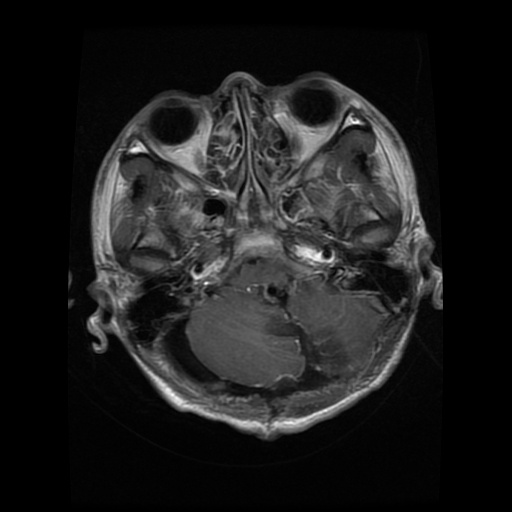glioma: (264, 314, 353, 374)
